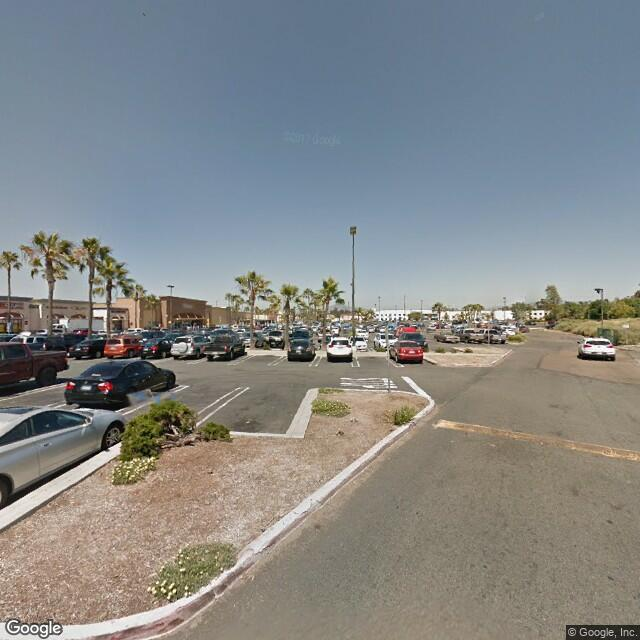litter: (329, 430, 343, 438), (348, 415, 358, 423), (204, 467, 213, 475)
